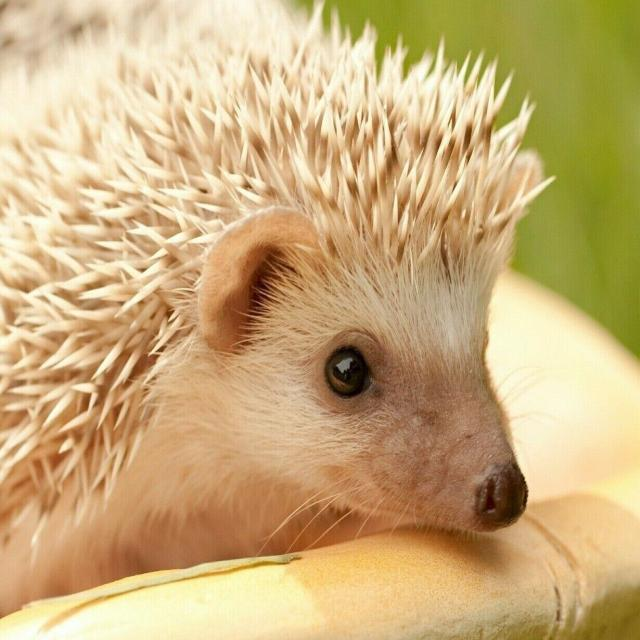Hedgehog: (0, 8, 556, 580)
